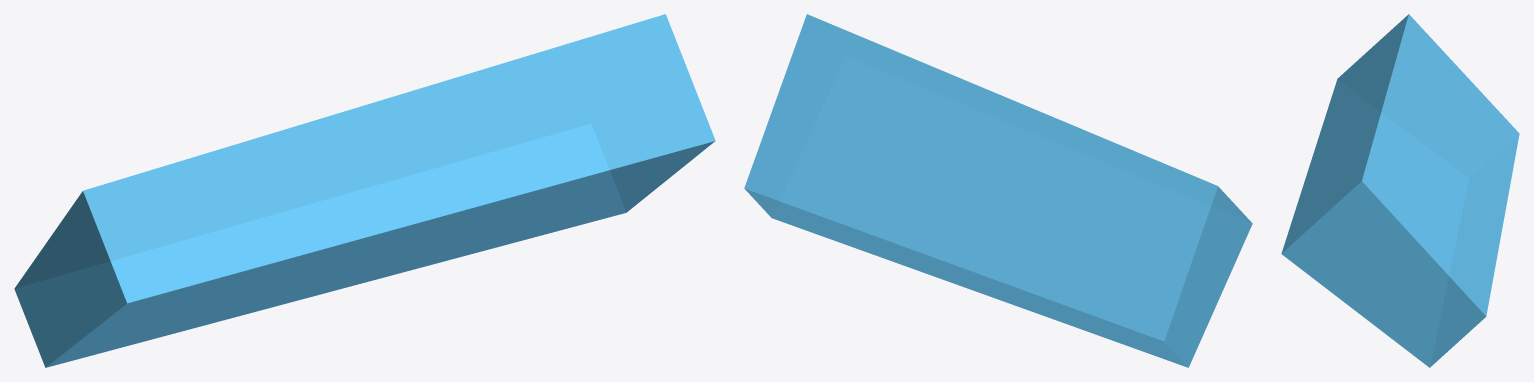
File: Event_421278790_HErechit_44.fbx
3 renders of one model, left to right at view 1: azimuth 30°, elevation 25°; view 2: azimuth 150°, elevation 25°; view 3: azimuth 270°, elevation 25°, orthographic. The views are drawn at different scales.
Visible parts, largest first — view 1: Model; view 2: Model; view 3: Model.
Part boxes in pixels (left/top/right/bottom): Model: left=14, top=14, right=715, bottom=367; Model: left=744, top=14, right=1252, bottom=367; Model: left=1281, top=14, right=1519, bottom=367.
Bounding box in the file's own units: 1.41 × 0.6466 × 0.6466.
